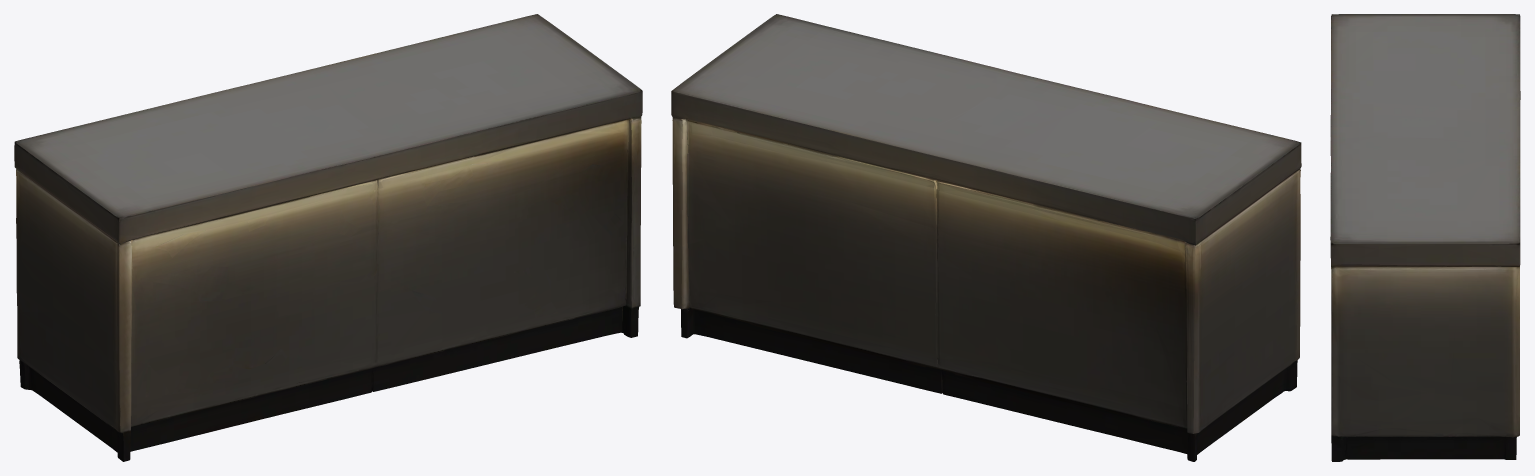
3 renders of one model, left to right at view 1: azimuth 30°, elevation 25°; view 2: azimuth 150°, elevation 25°; view 3: azimuth 270°, elevation 25°, orthographic. The views are drawn at different scales.
Parts seen in each view (by area): view 1: geometry_0; view 2: geometry_0; view 3: geometry_0.
Part boxes in pixels (x1,y1,x2,y2): geometry_0: (14, 14, 642, 461); geometry_0: (671, 14, 1301, 461); geometry_0: (1330, 14, 1520, 461).
Bounding box in the file's own units: 0.9982 × 0.4457 × 0.3484.
1 material, 1 textured.
